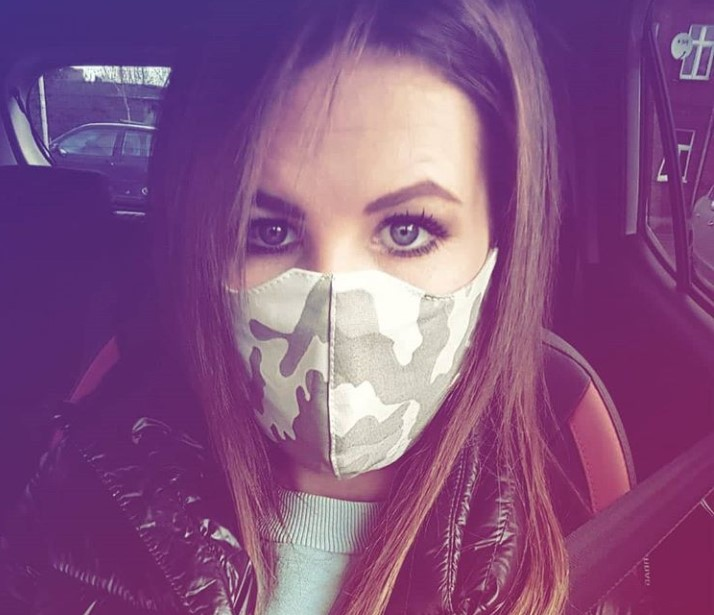face_with_mask: (166, 2, 545, 484)
